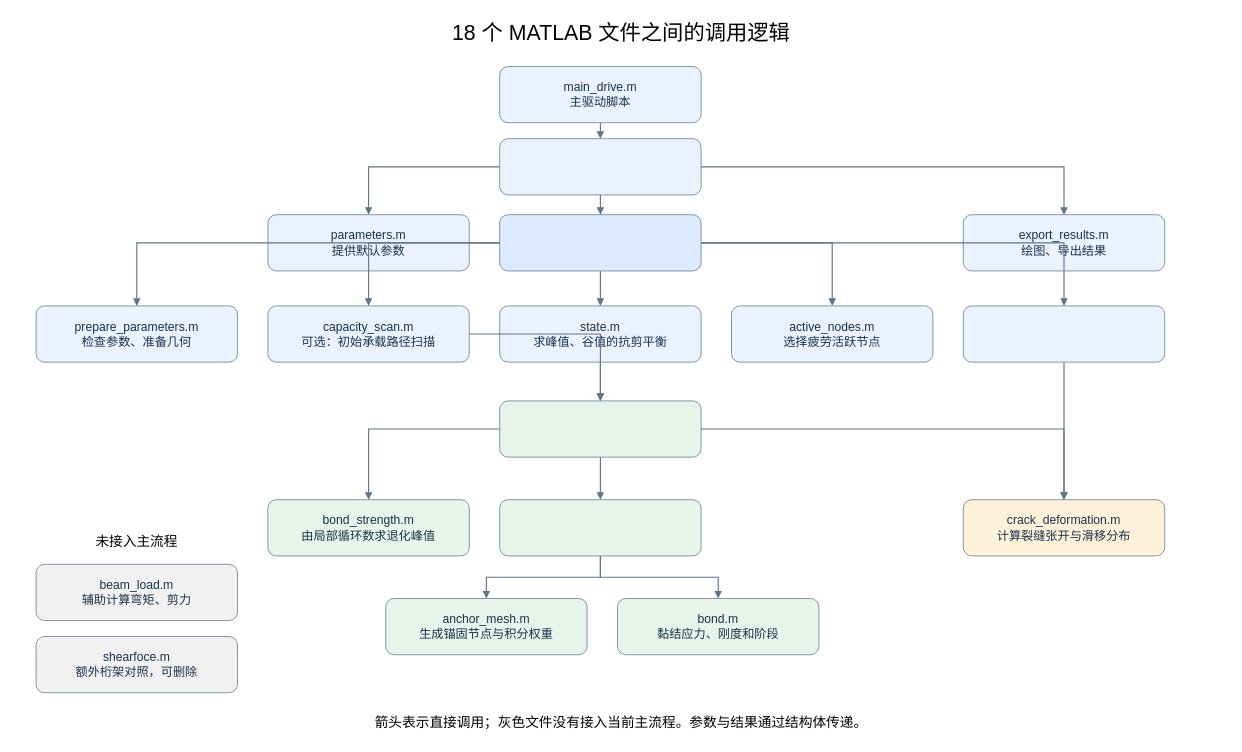
Image size: 1242x752. Some labels were removed from this diagram. Here are the shapes that lost their labels. From the top down, the centre of each, then its label:
At point 600,166: "read_and_calculate.m 读取参数、启动计算及导出".
At point 600,242: "fatigue_calculate.m 控制疲劳循环与历史更新".
At point 1064,333: "save_snapshot.m 整理指定循环的局部场".
At point 600,428: "trial.m 给定 q，计算一次抗剪响应".
At point 600,527: "anchorage.m 求每根筋的双侧锚固响应".
